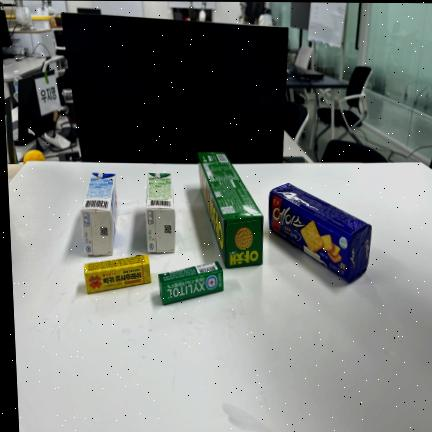cracker_ace: (267, 180, 371, 287)
cracker_vege: (197, 152, 263, 269)
gum_green: (159, 261, 224, 305)
gum_yellow: (84, 254, 151, 294)
milk_blue: (80, 172, 118, 255)
milk_green: (146, 172, 175, 253)
